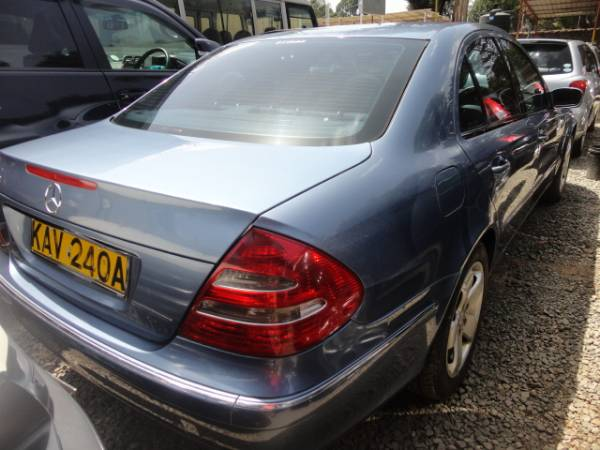licencePlate: (23, 209, 143, 299)
